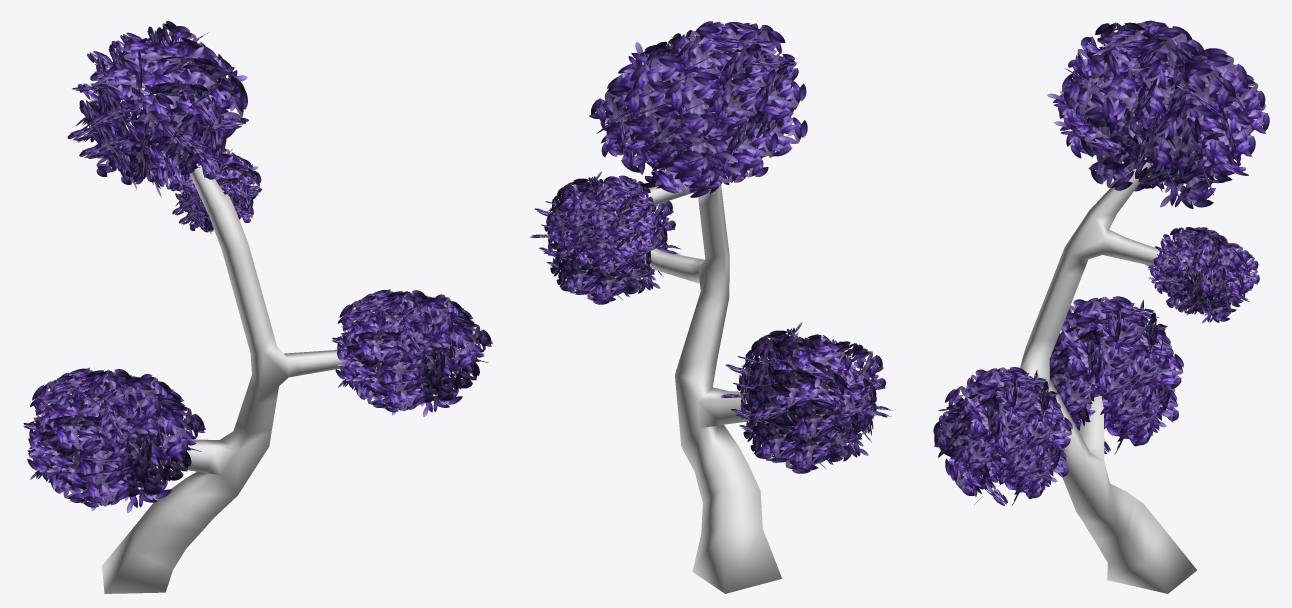
Rendered from purpleShrub.fbx.
3 views of the same model, side by side, from view 1: azimuth 30°, elevation 25°; view 2: azimuth 150°, elevation 25°; view 3: azimuth 270°, elevation 25° (orthographic). The views are drawn at different scales.
Parts seen in each view (by area): view 1: Plane.135, Cube, Plane.132, Plane.133, Plane.134; view 2: Plane.135, Cube, Plane.132, Plane.134, Plane.133; view 3: Plane.135, Cube, Plane.132, Plane.133, Plane.134.
Boxes of the visible parts, left/top/right/bottom form: Plane.135: left=67, top=21, right=248, bottom=197; Cube: left=102, top=126, right=406, bottom=593; Plane.132: left=23, top=367, right=205, bottom=513; Plane.133: left=332, top=289, right=492, bottom=417; Plane.134: left=170, top=148, right=262, bottom=233; Plane.135: left=589, top=21, right=807, bottom=197; Cube: left=602, top=183, right=831, bottom=593; Plane.132: left=721, top=322, right=893, bottom=473; Plane.134: left=546, top=175, right=658, bottom=266; Plane.133: left=530, top=171, right=681, bottom=304; Plane.135: left=1047, top=20, right=1269, bottom=208; Cube: left=1010, top=157, right=1205, bottom=593; Plane.132: left=1049, top=296, right=1183, bottom=454; Plane.133: left=933, top=367, right=1072, bottom=506; Plane.134: left=1145, top=227, right=1259, bottom=323.
Size of the model in its own units: 458 by 583 by 330.
